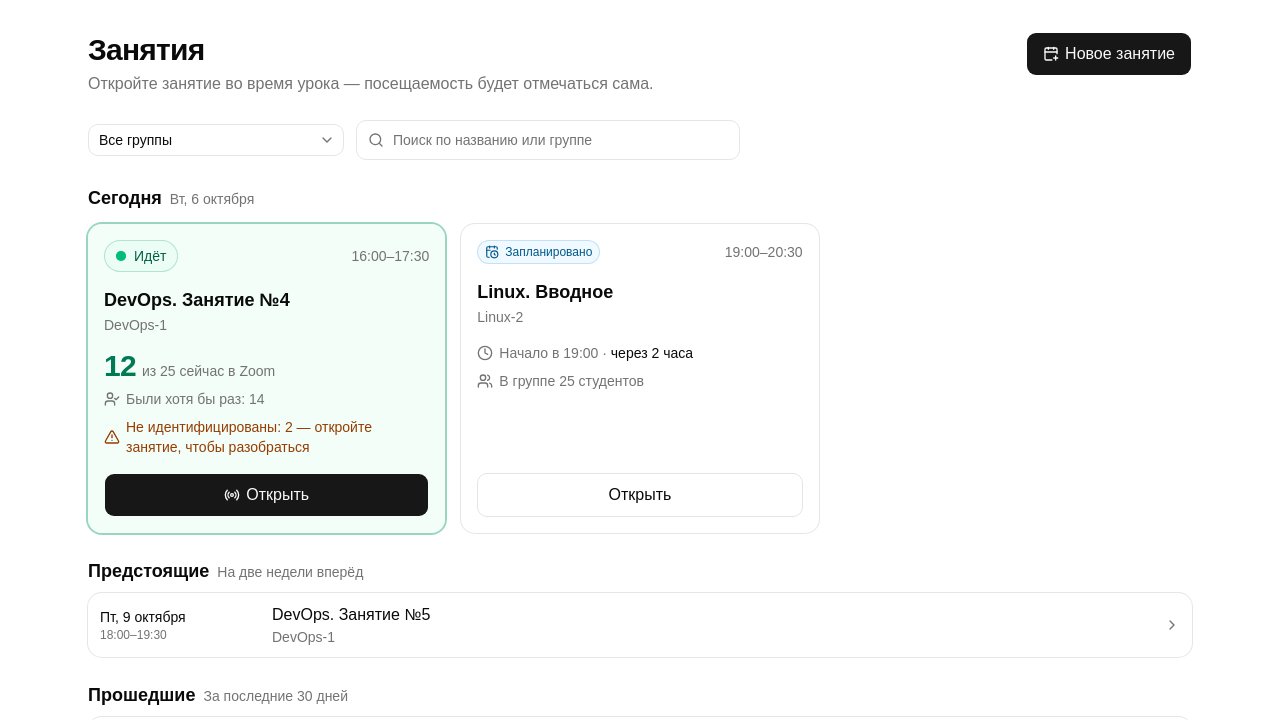
it: LessonsPage › opens the new lesson dialog from the big button
Expected: the heading "Сегодня вт, 6 октября" is shown, left=88, top=188, right=254, bottom=208
Step 1. Click the button "Новое занятие" → (1109,54), box left=1026, top=32, right=1192, bottom=76
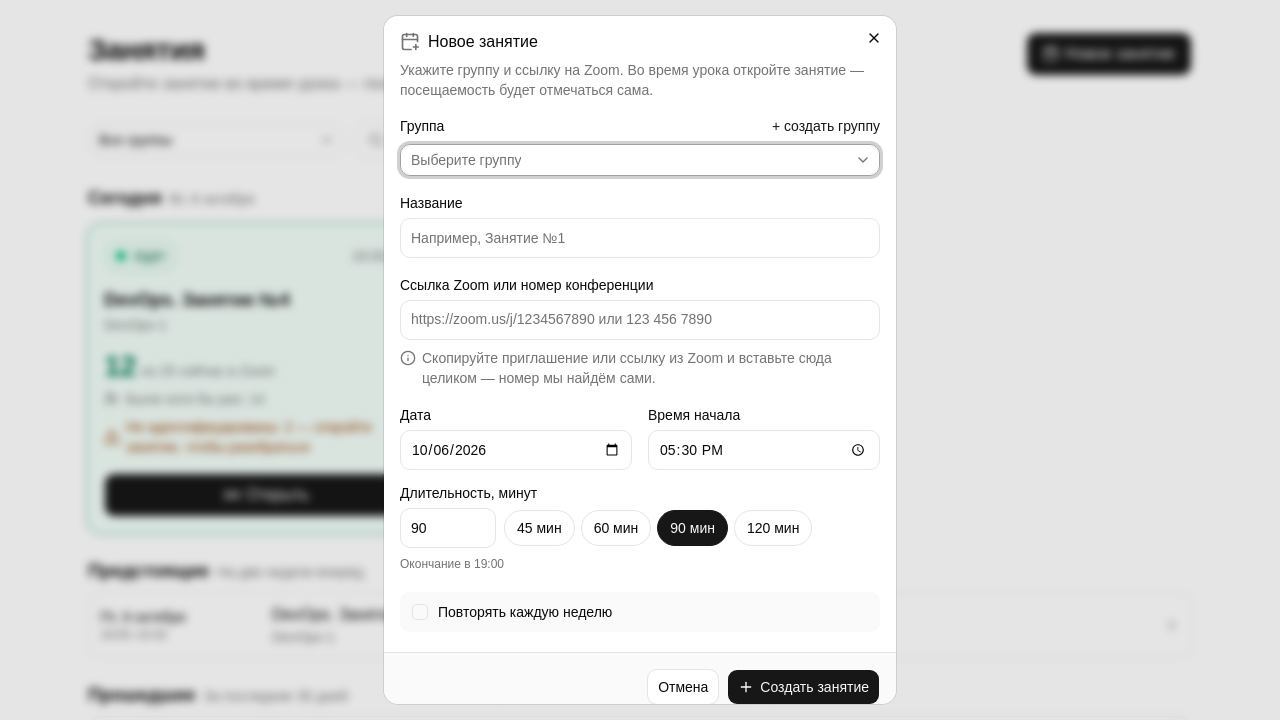
Expected: the text box labelled "Ссылка Zoom или номер конференции" is shown, left=400, top=300, right=880, bottom=340
